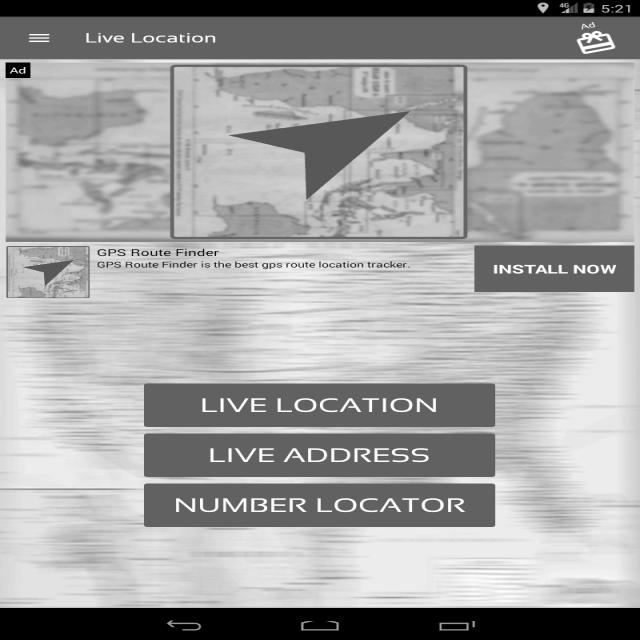Button: (136, 480, 502, 530), (133, 378, 508, 426), (135, 430, 503, 478), (467, 241, 634, 295)
ImageButton: (21, 30, 57, 48)
ImageView: (170, 64, 466, 236), (6, 245, 90, 298), (567, 32, 621, 56)
TextView: (84, 30, 228, 48)
